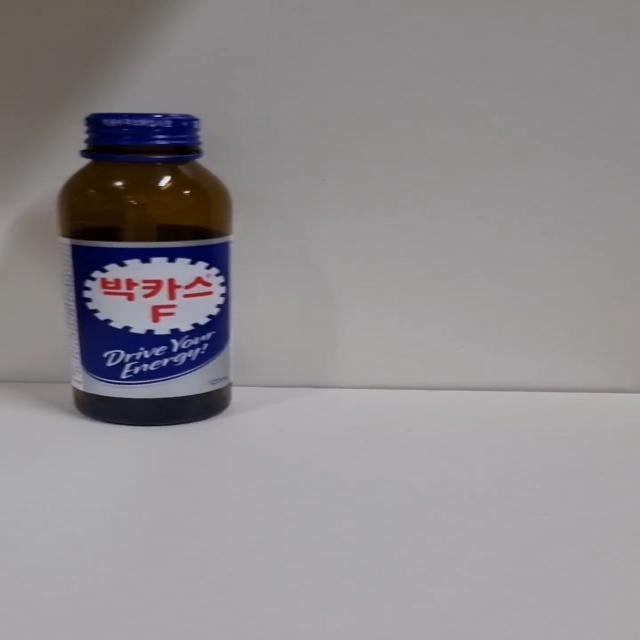Glass: (54, 113, 235, 430)
